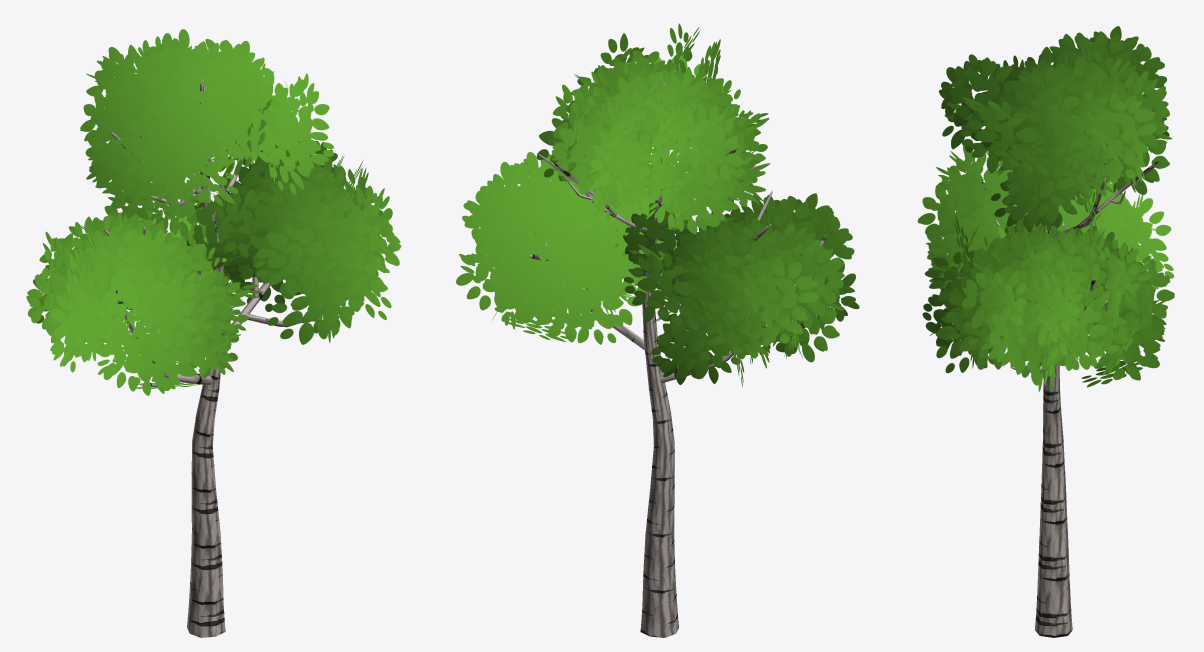
The model's file is BirchTree_4.gltf.
3 views of the same model, side by side, from view 1: azimuth 30°, elevation 25°; view 2: azimuth 150°, elevation 25°; view 3: azimuth 270°, elevation 25° (orthographic).
Visible parts, largest first — view 1: BirchTree_4; view 2: BirchTree_4; view 3: BirchTree_4.
Boxes of the visible parts, x1,y1,x2,y2 form: BirchTree_4: (26,29,401,637); BirchTree_4: (456,23,859,637); BirchTree_4: (917,26,1174,637).
Size of the model in its own units: 2.78 by 4.21 by 1.84.
2 materials, 2 textured.
